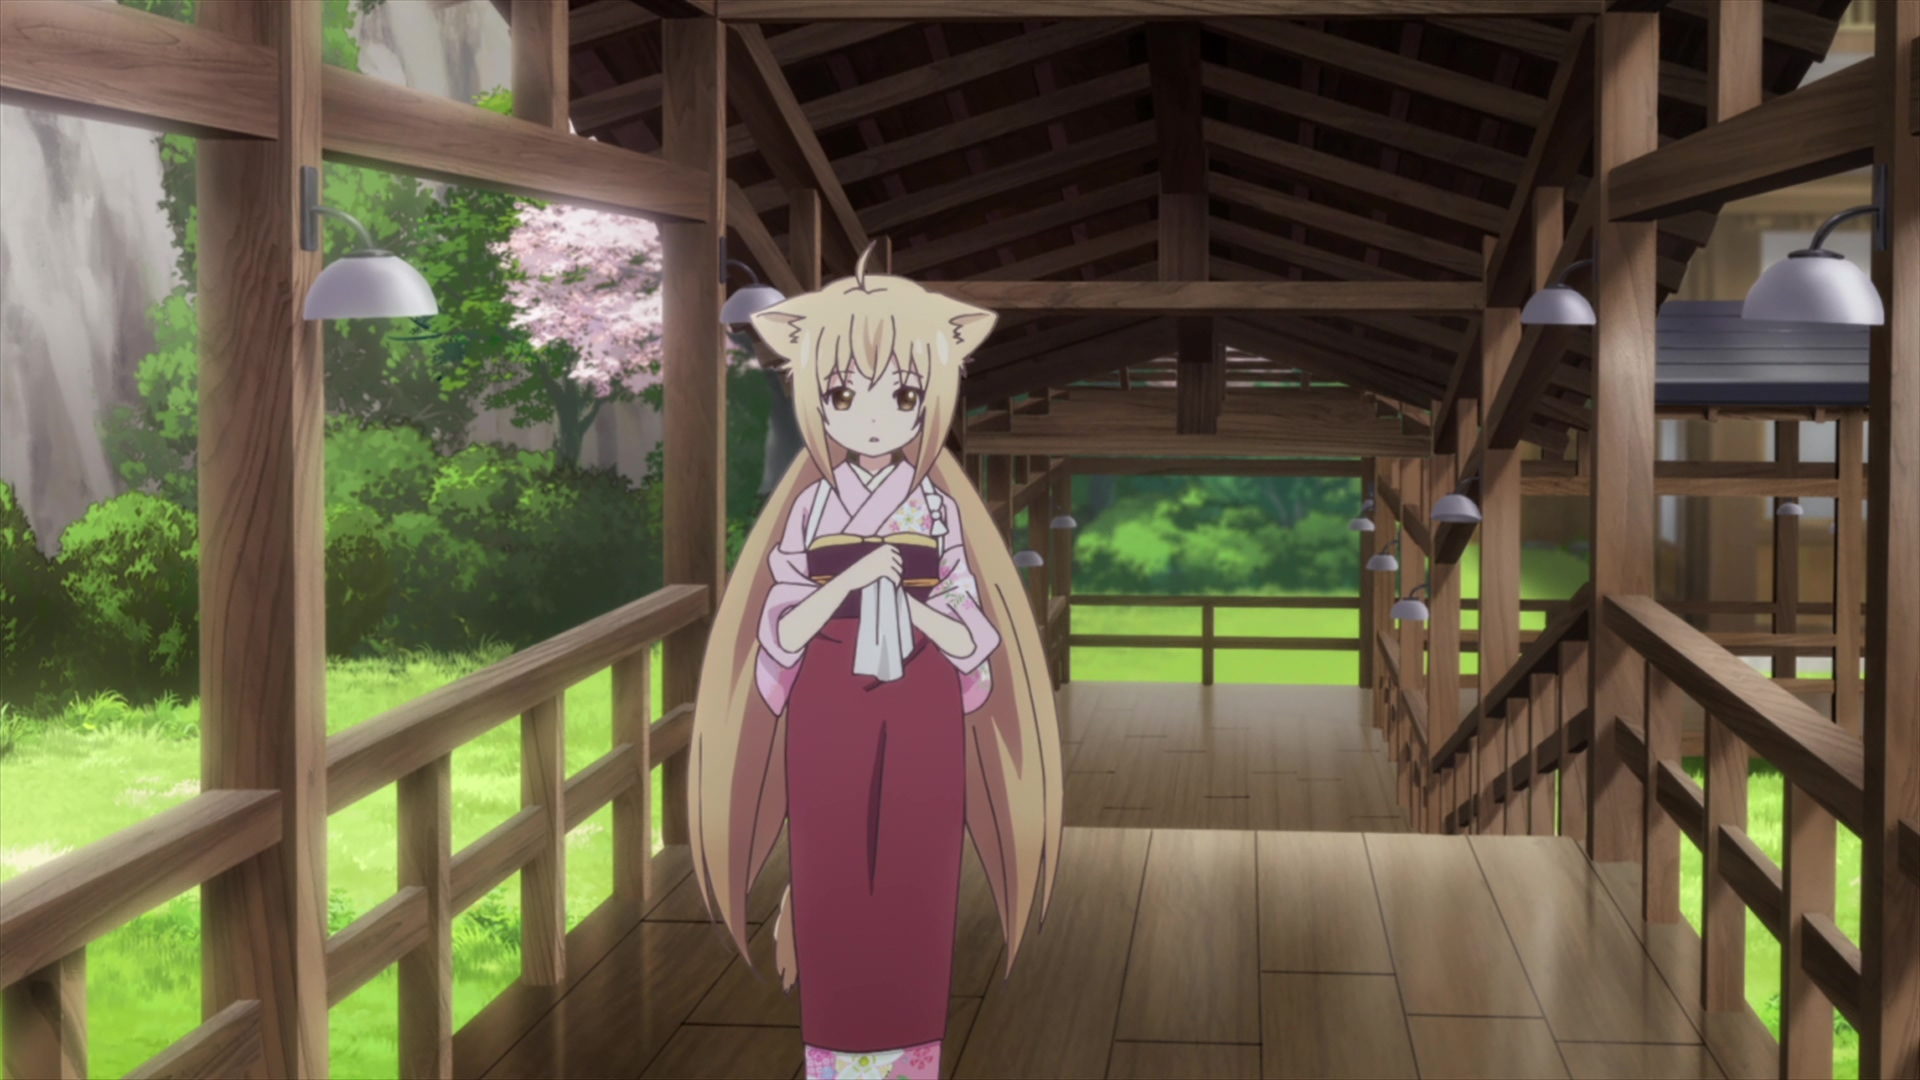柚: (686, 237, 1064, 1080)
